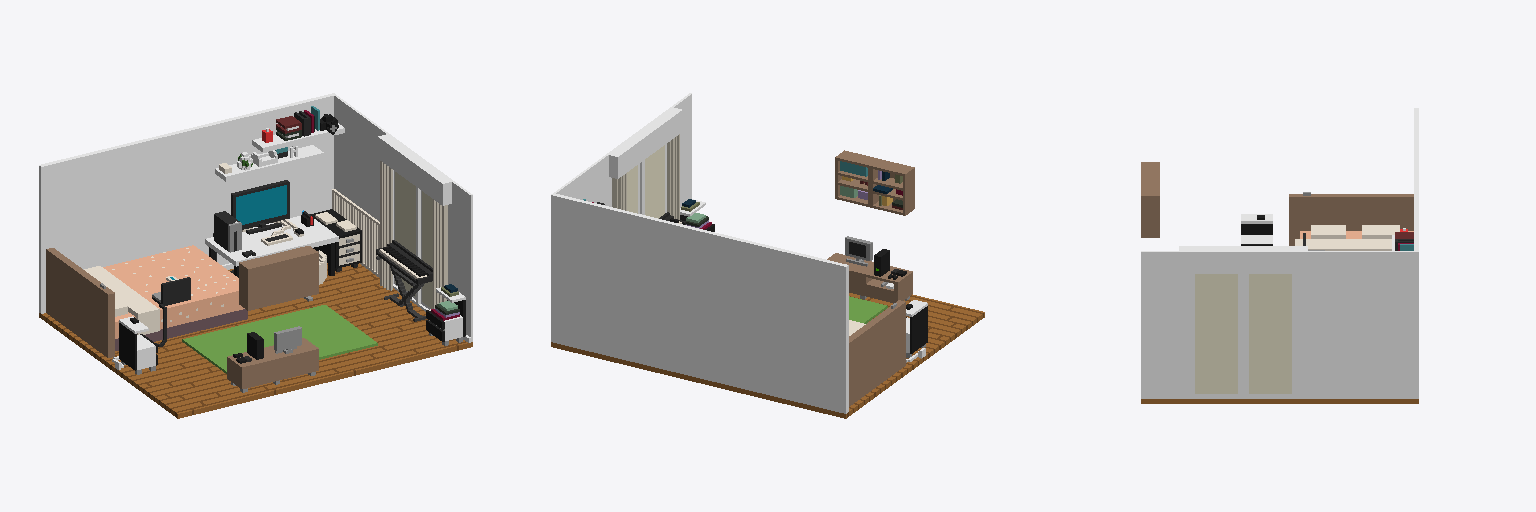
3 views of the same model, side by side, from view 1: azimuth 30°, elevation 25°; view 2: azimuth 150°, elevation 25°; view 3: azimuth 270°, elevation 25° (orthographic).
Size of the model in its own units: 126 by 62 by 103.
1 materials, 1 textured.